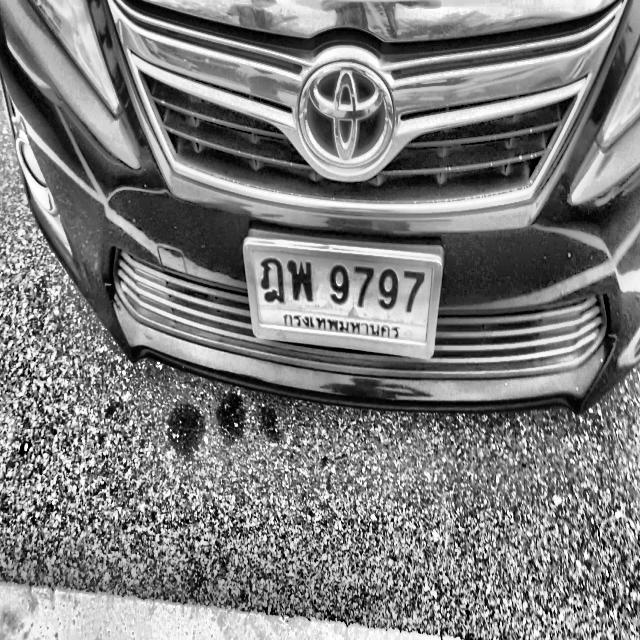license-plate: (243, 220, 441, 365)
